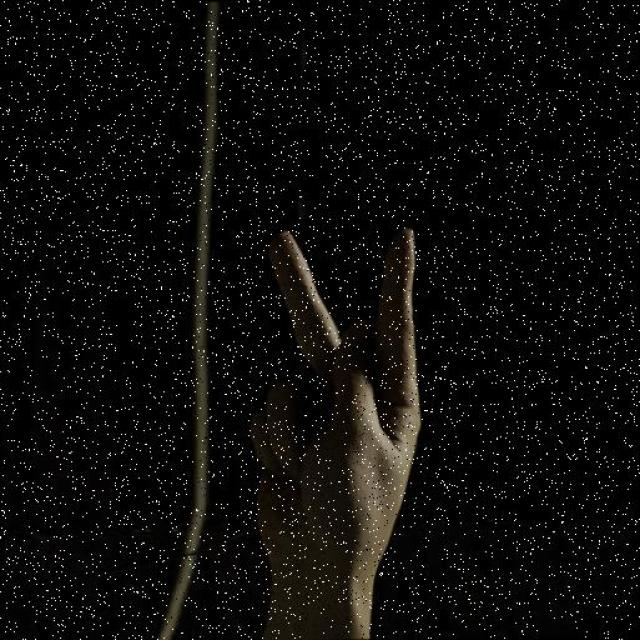K: (240, 224, 427, 578)
